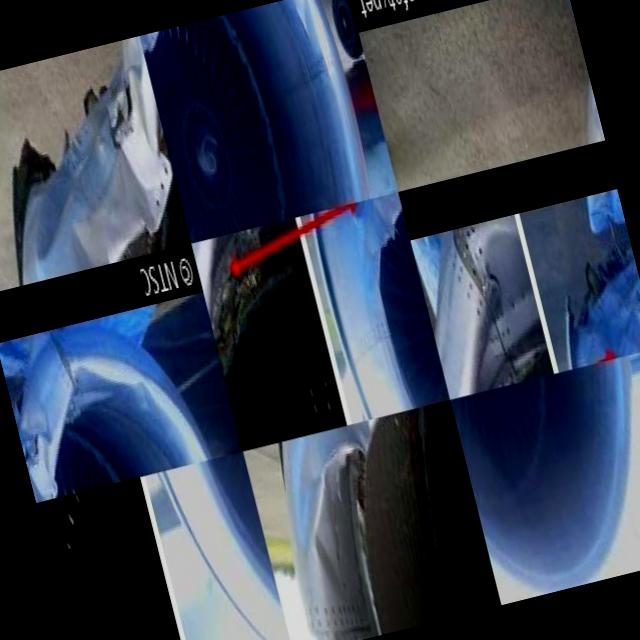dent: (296, 468, 359, 602), (109, 134, 167, 237), (65, 215, 109, 271)
